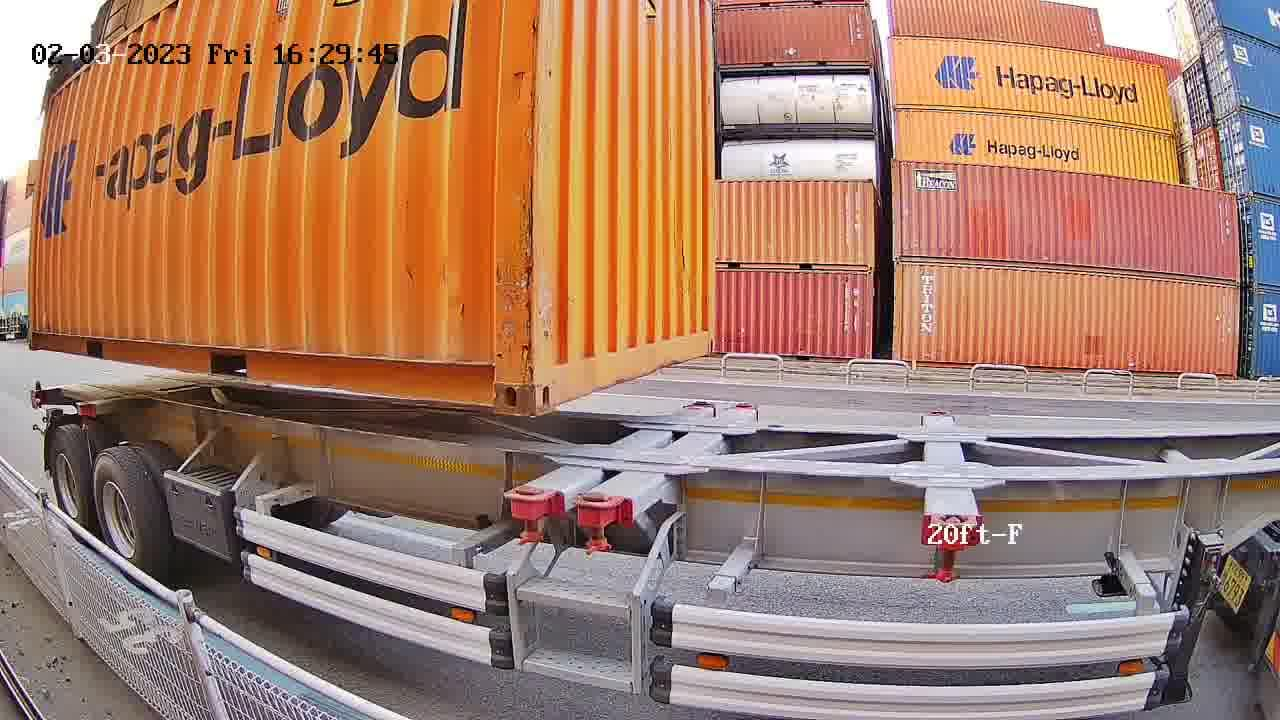Chassis: (502, 403, 715, 503), (575, 405, 757, 506)
Cone: (500, 484, 561, 549), (577, 493, 630, 557)
Hole_L: (531, 319, 586, 417)
Hole_R: (454, 327, 533, 416), (693, 317, 715, 358)
Tire: (92, 449, 154, 574), (49, 436, 89, 532)
